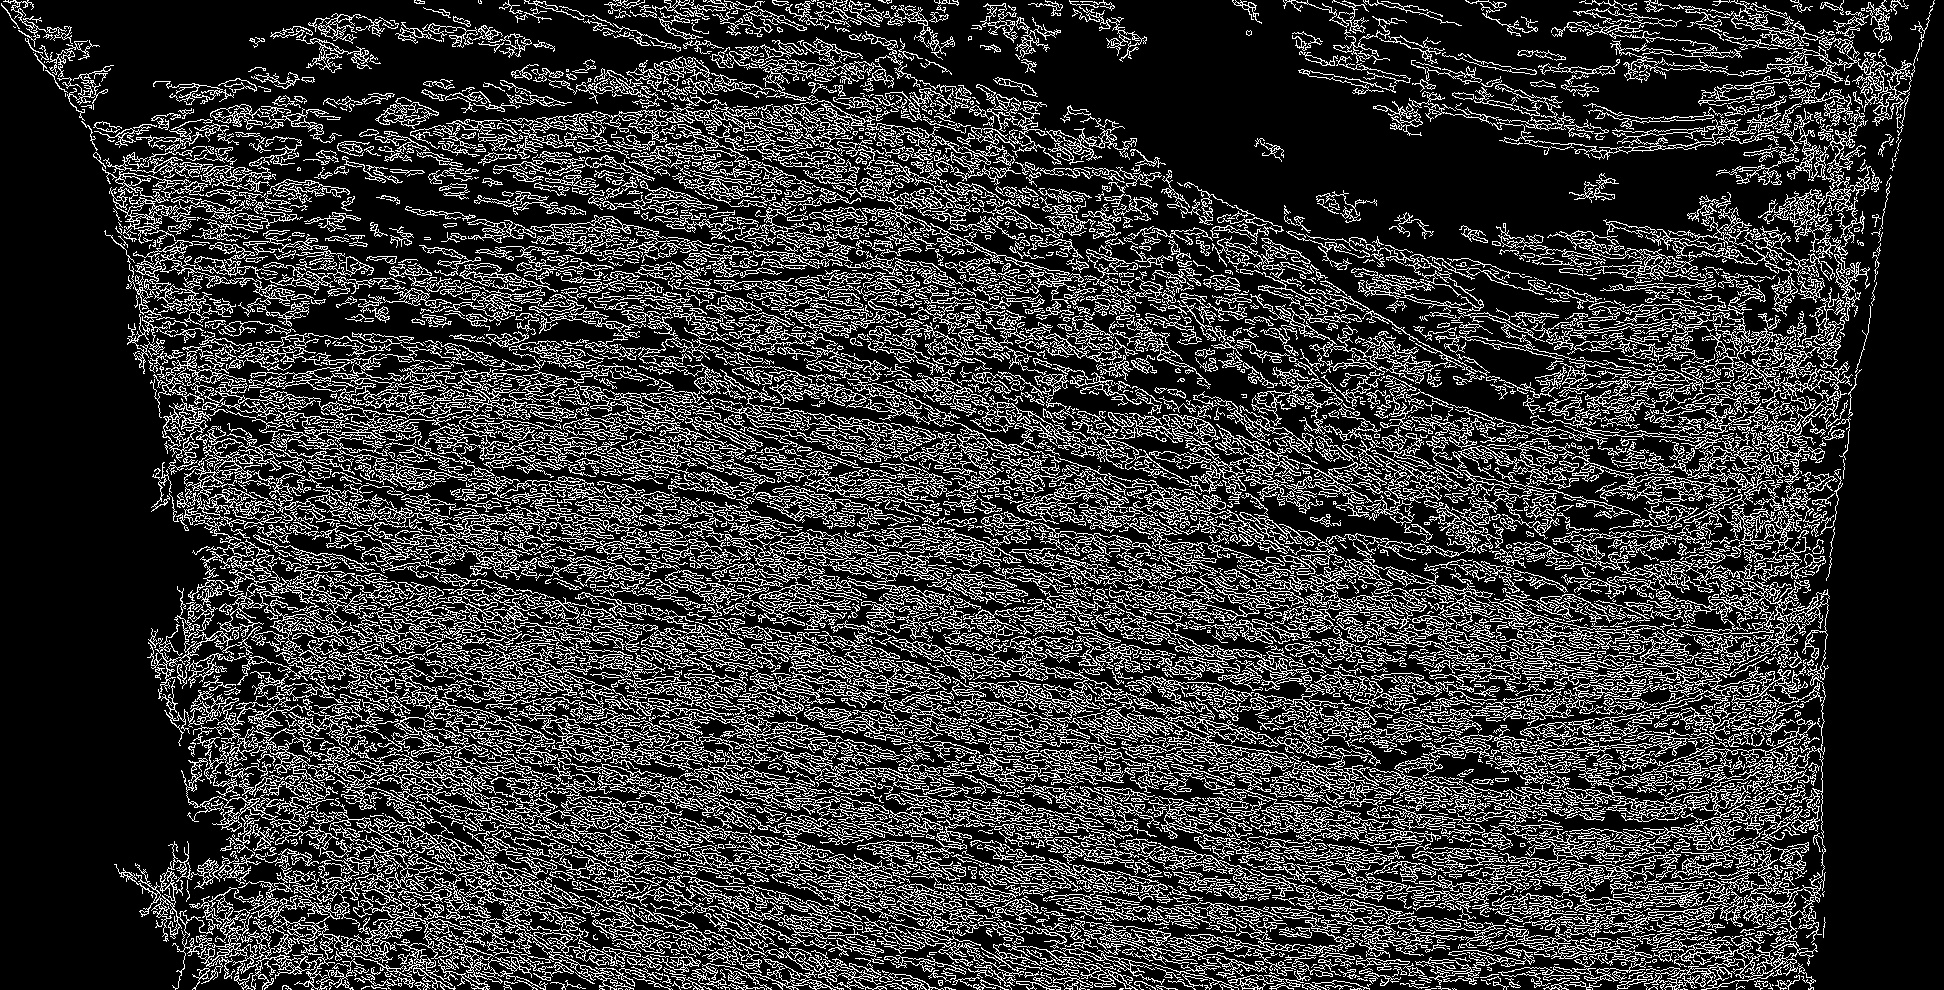singlecore: (768, 758, 771, 761), (1291, 838, 1295, 842), (602, 397, 606, 400), (326, 611, 329, 614), (812, 366, 815, 369), (866, 537, 868, 540), (850, 716, 853, 719), (850, 724, 853, 726), (804, 761, 807, 765), (886, 787, 889, 790), (779, 803, 783, 806), (884, 828, 887, 831), (1361, 769, 1365, 772), (1308, 697, 1312, 700), (785, 807, 788, 809), (891, 933, 894, 936), (1349, 770, 1352, 773), (1360, 735, 1362, 737), (1381, 774, 1384, 777), (643, 431, 645, 433)
